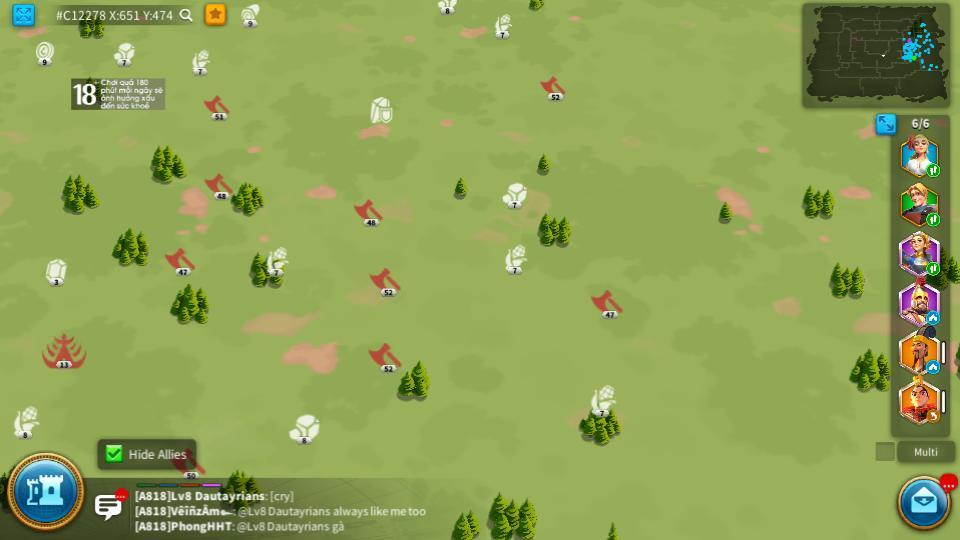gem-z-out: (44, 258, 68, 284)
march_idle: (927, 312, 940, 324), (927, 362, 940, 373)
march_marching: (925, 263, 938, 274), (927, 216, 940, 227), (926, 169, 937, 178)
march_returning: (926, 411, 940, 422)
